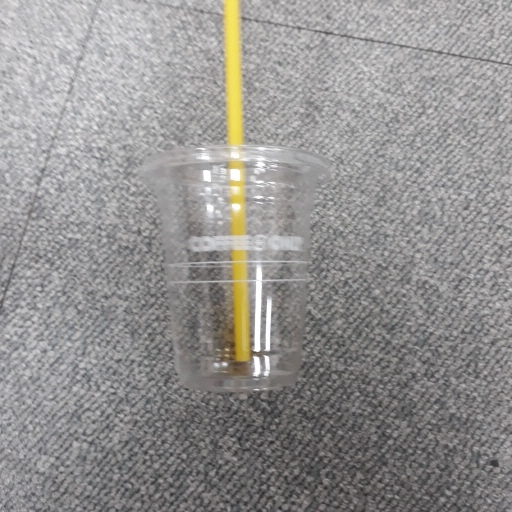Plastic_2: (137, 3, 324, 391)
